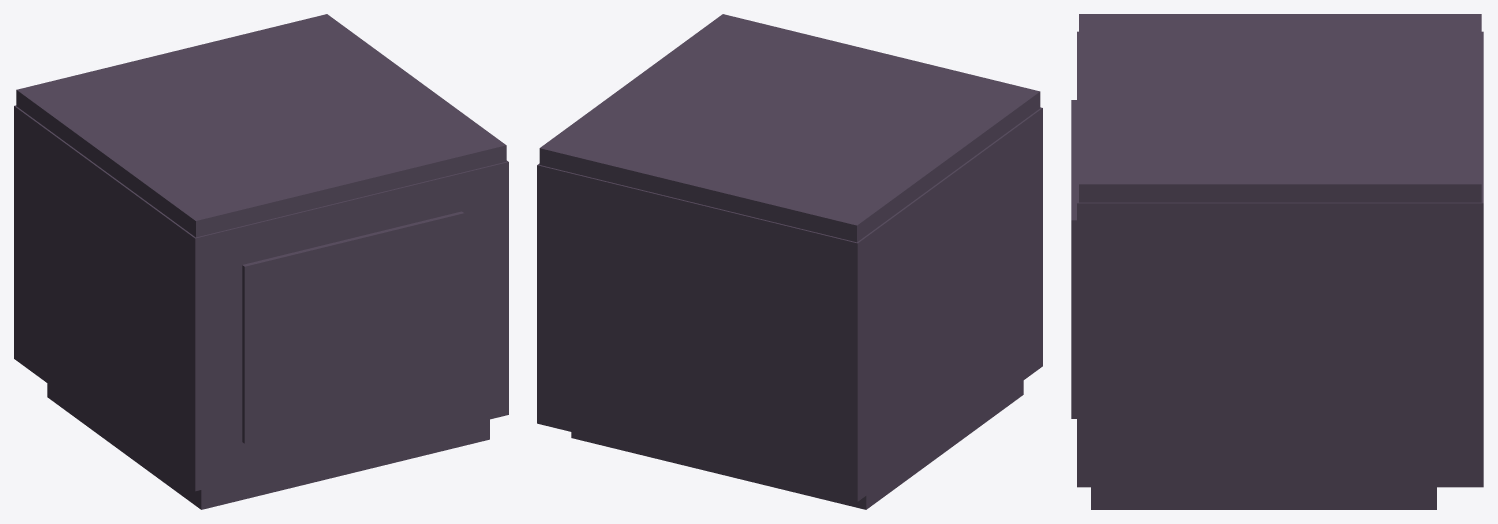
The model's file is order_desk_whole.glb.
3 views of the same model, side by side, from view 1: azimuth 30°, elevation 25°; view 2: azimuth 150°, elevation 25°; view 3: azimuth 270°, elevation 25° (orthographic). The views are drawn at different scales.
Parts seen in each view (by area): view 1: order_desk_whole_0; view 2: order_desk_whole_0; view 3: order_desk_whole_0.
Boxes of the visible parts, bbox=[...] form: order_desk_whole_0: bbox=[14, 14, 508, 509]; order_desk_whole_0: bbox=[537, 14, 1042, 509]; order_desk_whole_0: bbox=[1071, 14, 1483, 509].
Size of the model in its own units: 1 by 0.9 by 1.01.
